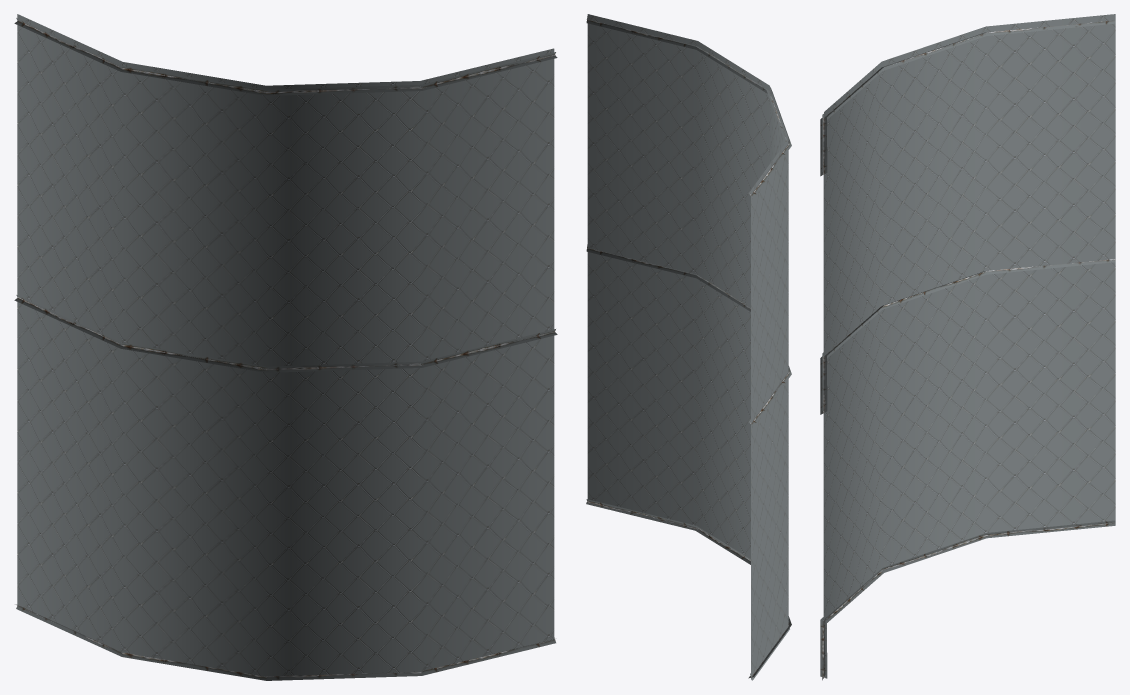
Rendered from fence_circle.obj.
The picture shows the model from 3 angles, left to right: view 1: azimuth 30°, elevation 25°; view 2: azimuth 150°, elevation 25°; view 3: azimuth 270°, elevation 25°; orthographic projection. The views are drawn at different scales.
Parts seen in each view (by area): view 1: chainlink_fence_inner_corner90_nocol_nowire; view 2: chainlink_fence_inner_corner90_nocol_nowire; view 3: chainlink_fence_inner_corner90_nocol_nowire.
Boxes of the visible parts, bbox=[...] form: chainlink_fence_inner_corner90_nocol_nowire: bbox=[14, 14, 557, 680]; chainlink_fence_inner_corner90_nocol_nowire: bbox=[586, 14, 791, 680]; chainlink_fence_inner_corner90_nocol_nowire: bbox=[820, 14, 1115, 680].
Bounding box in the file's own units: 14.45 × 22.03 × 11.52.
